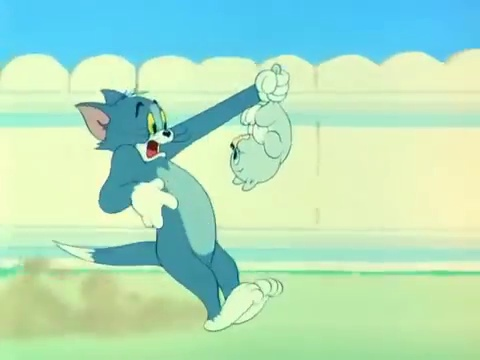tom: (74, 85, 178, 174)
